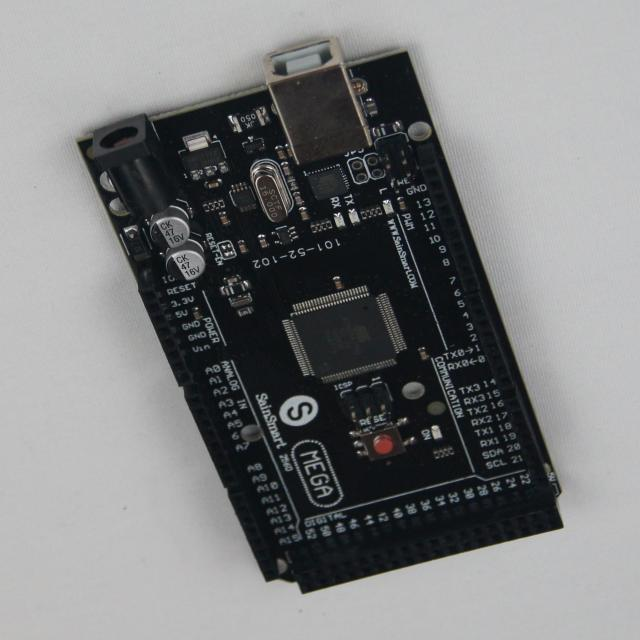Arduino Mega 2560 -Black-: (80, 39, 563, 593)
